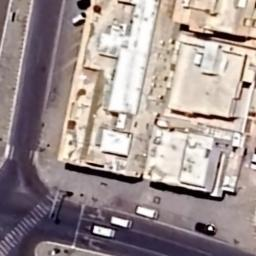truck: (90, 224, 120, 242)
unknown: (194, 221, 220, 237), (70, 12, 93, 28)
van: (128, 200, 162, 220), (108, 213, 136, 228)
